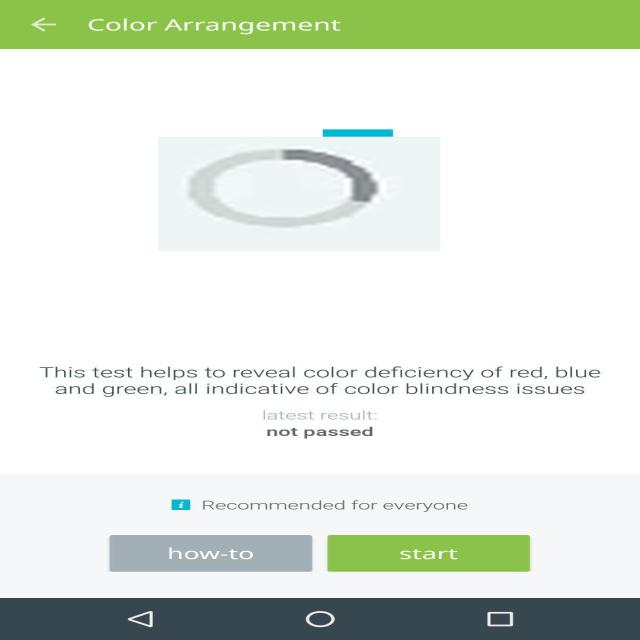misdirection: (158, 137, 440, 251)
